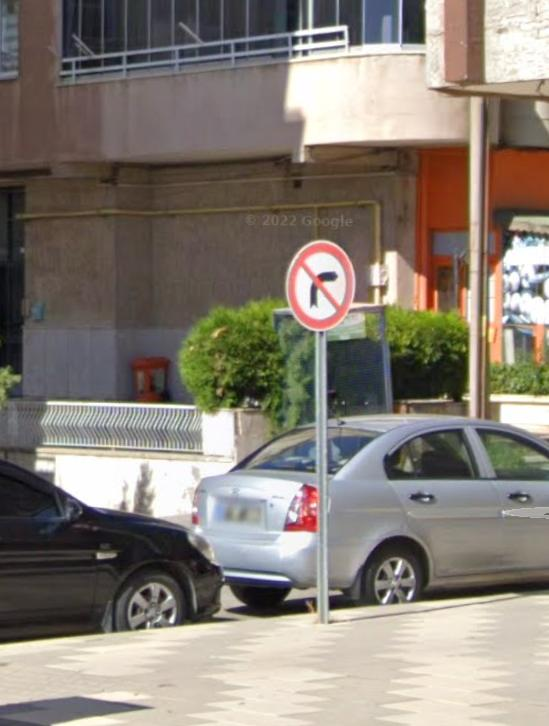rightturnsareforbidden: (288, 241, 350, 329)
